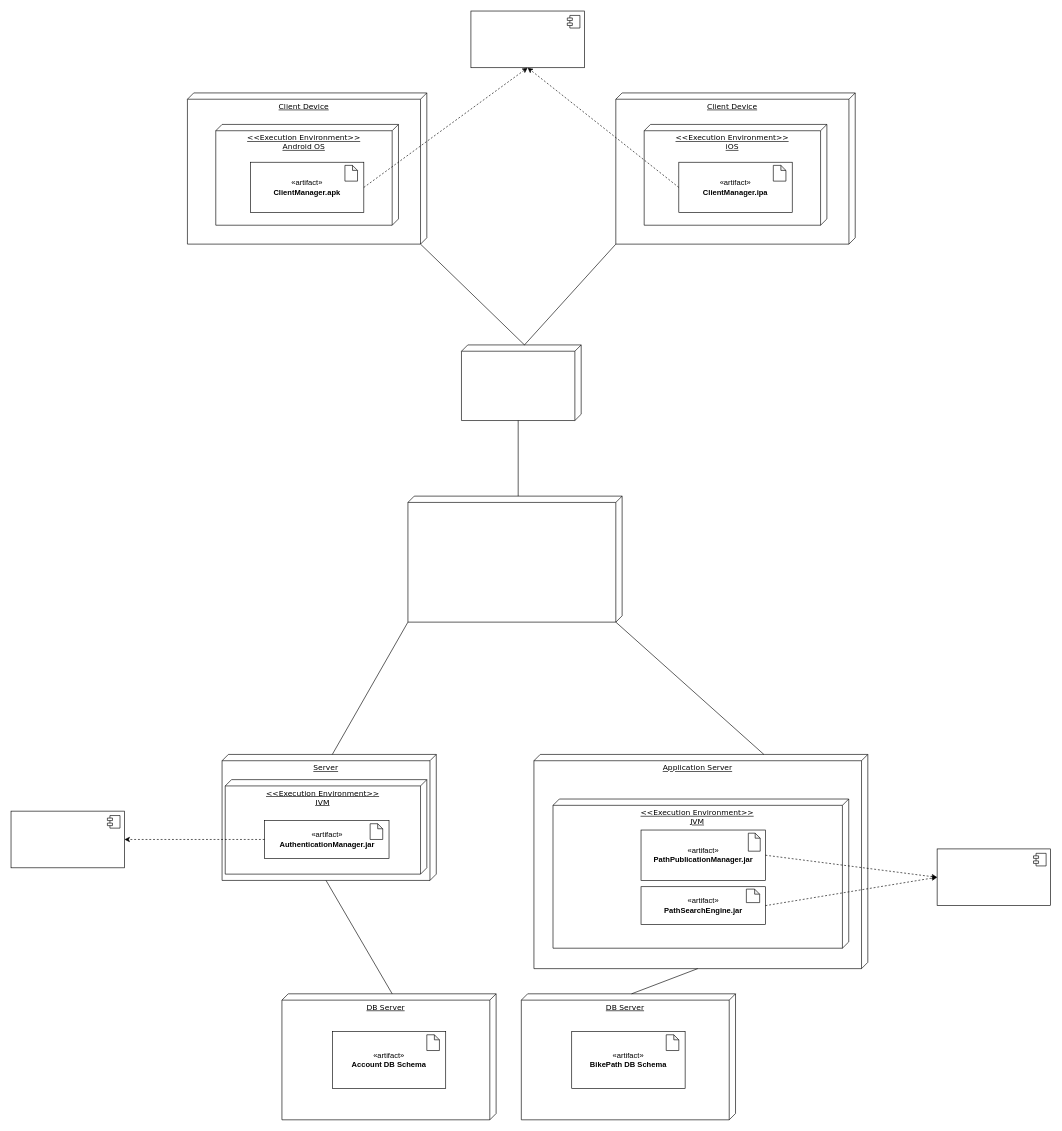
Image size: 1062x1131. Some labels were removed from this diagram. Each missing label, with the centre of its shape:
"Gateway Server" belongs at [514,558].
"Load Balancer" belongs at [521,382].
"«Component» AuthenticatonManager" belongs at [67,839].
"«Component» ClientManger" belongs at [527,39].
"«Component» PathManager" belongs at [993,877].
